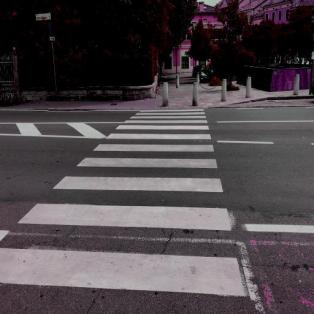Paso de Cebra: (0, 202, 248, 304), (51, 154, 226, 194), (106, 123, 214, 140), (134, 108, 207, 116)
